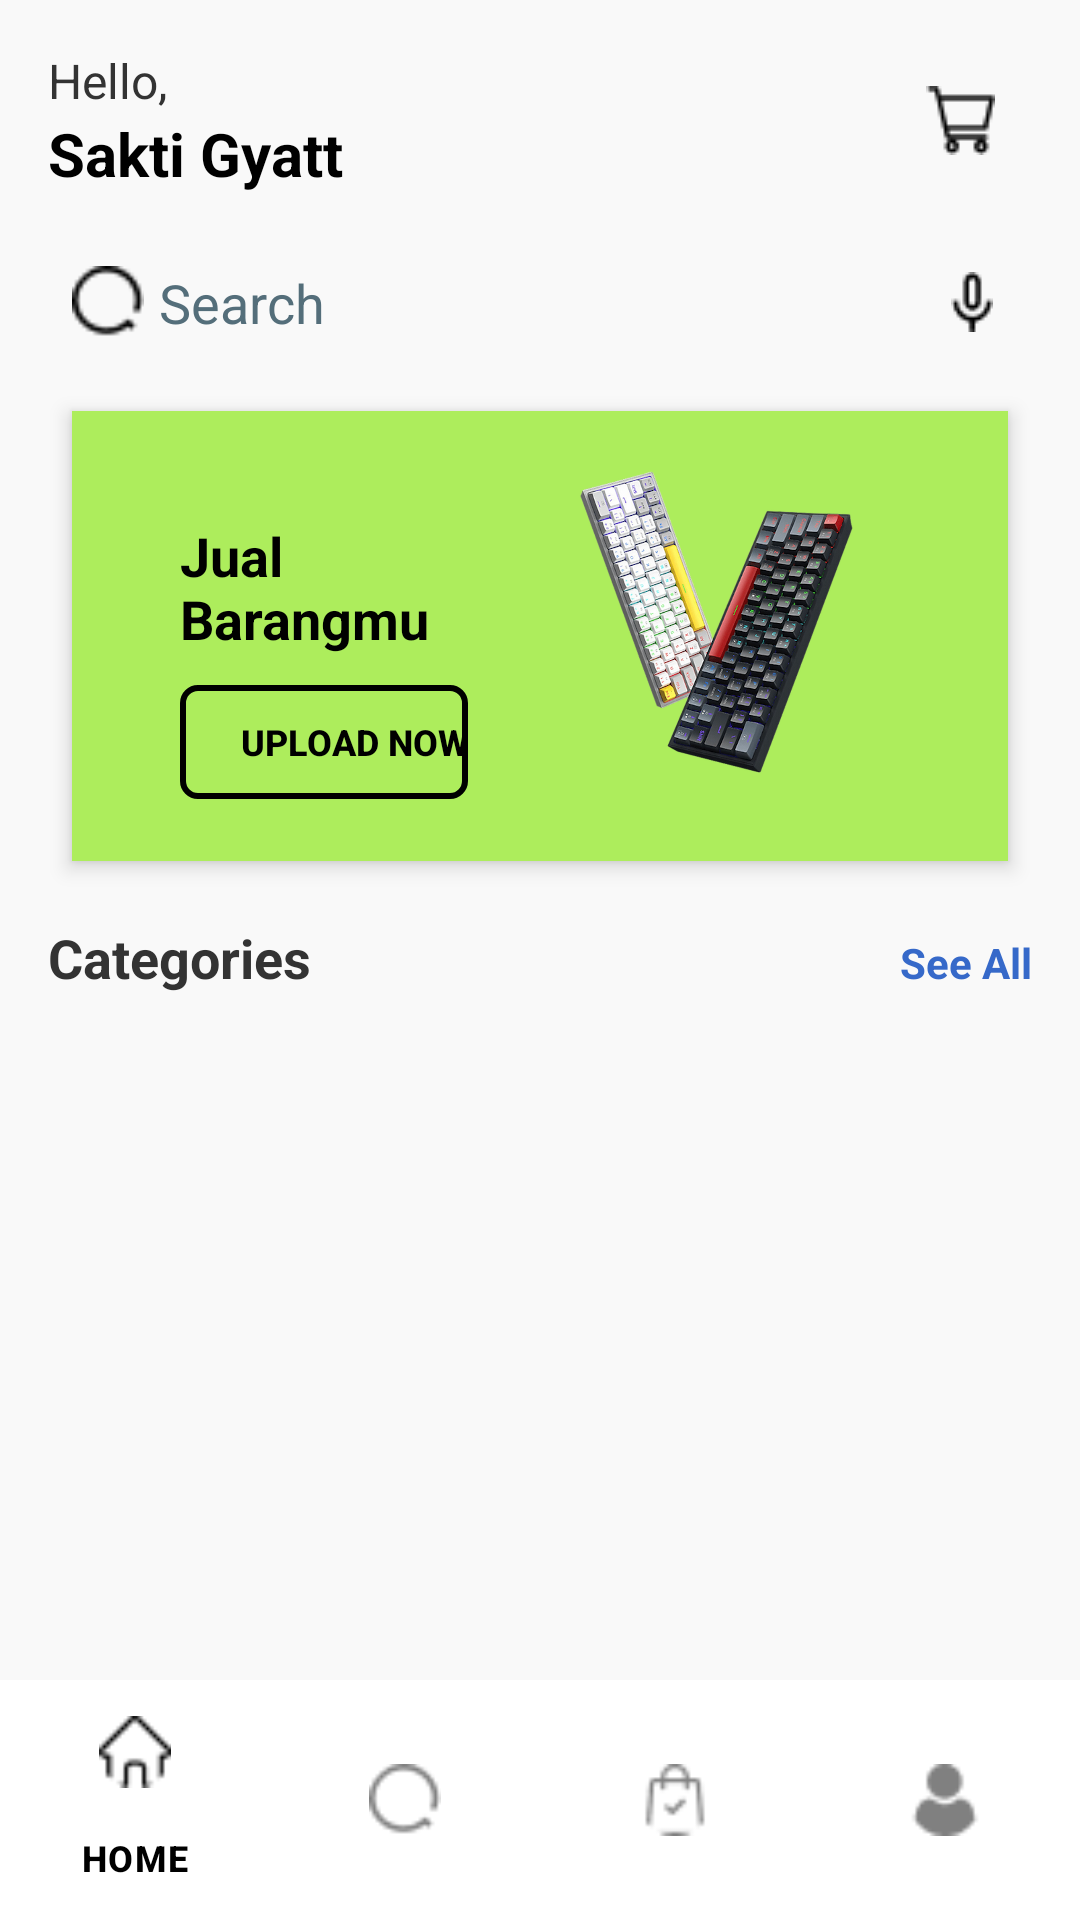

Point at icon controls on the screen. Image size 1080w x 1920h, points as (x=x, y=y).
Cart Icon: (x=960, y=120)
Keyboard Image: (x=716, y=622)
Voice Icon: (x=972, y=302)
